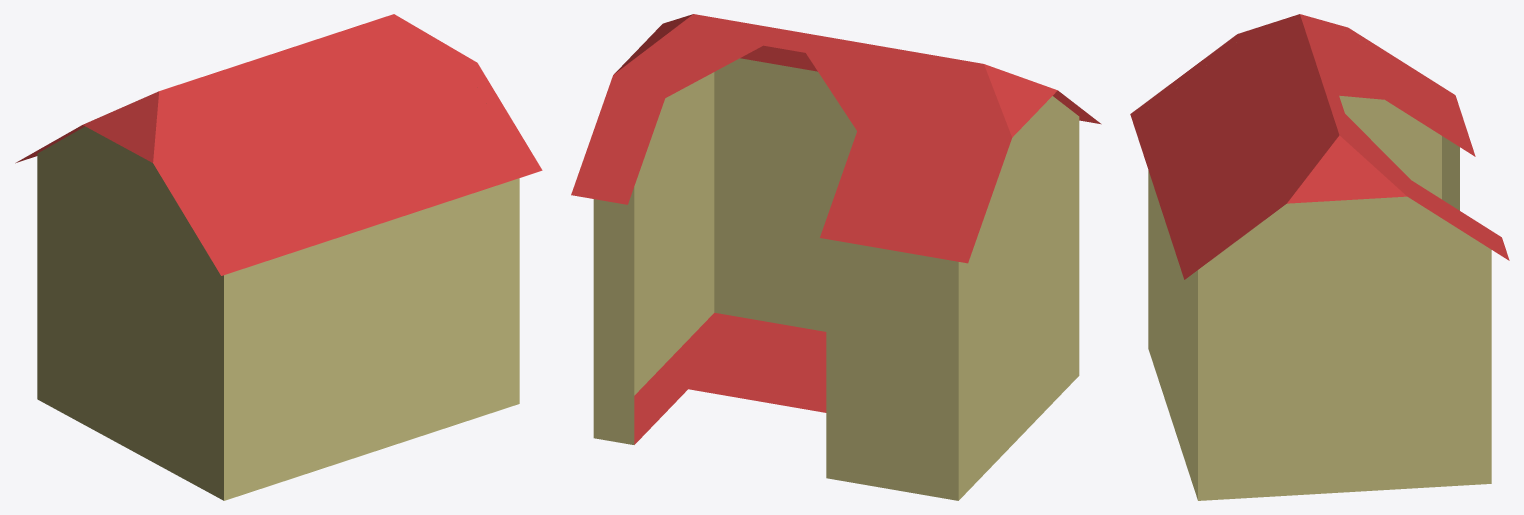
The picture shows the model from 3 angles, left to right: view 1: azimuth 30°, elevation 25°; view 2: azimuth 150°, elevation 25°; view 3: azimuth 270°, elevation 25°; orthographic projection. The views are drawn at different scales.
Size of the model in its own units: 13.7 by 11.88 by 11.76.
